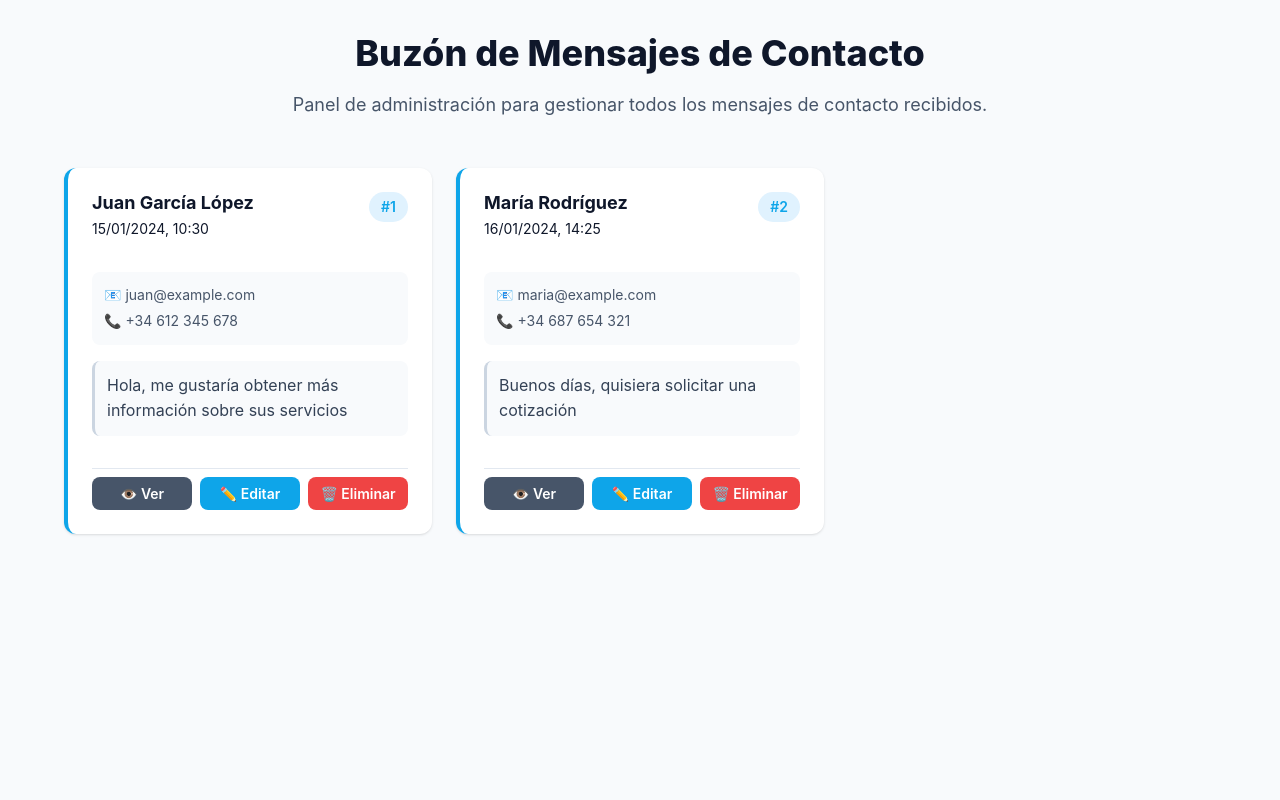
Test case: Contacto Component › permite ver mensaje completo en modal como administrador
Expected: the heading "Juan García López" is shown, [92,192,254,214]
// Hacer clic en Ver
Click the button "👁️ Ver" below "+34 612 345 678" at (142, 493), box [92,477,192,510]
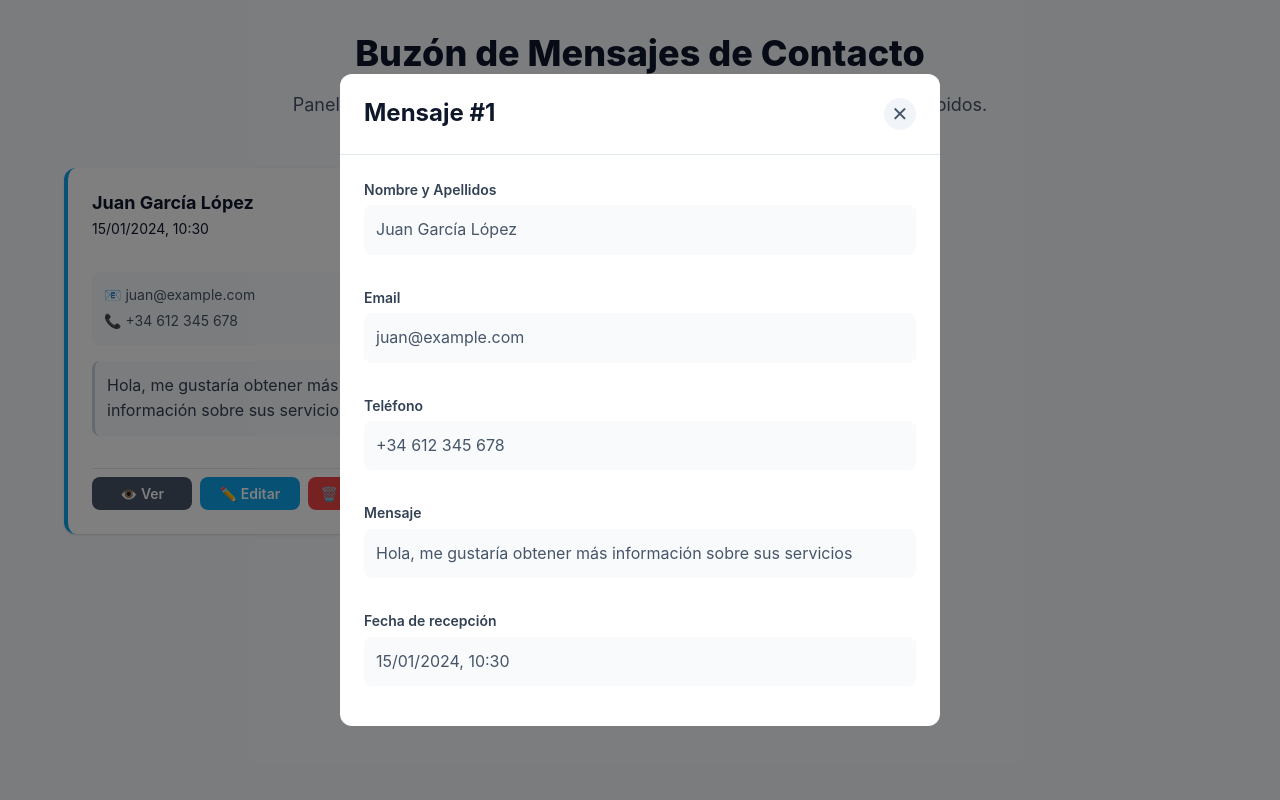
Result: the heading "Mensaje #1" is shown at [364,99,495,128]
